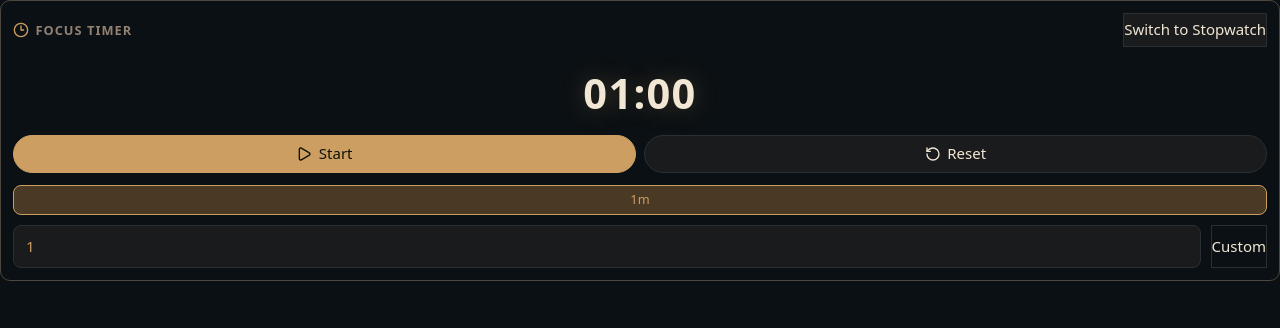
Test case: shows completion state and sends a local notification when focus time ends
The image size is (1280, 328).
Click the button "Start" at [324, 154], box left=13, top=135, right=636, bottom=173
Wait 60000 ms
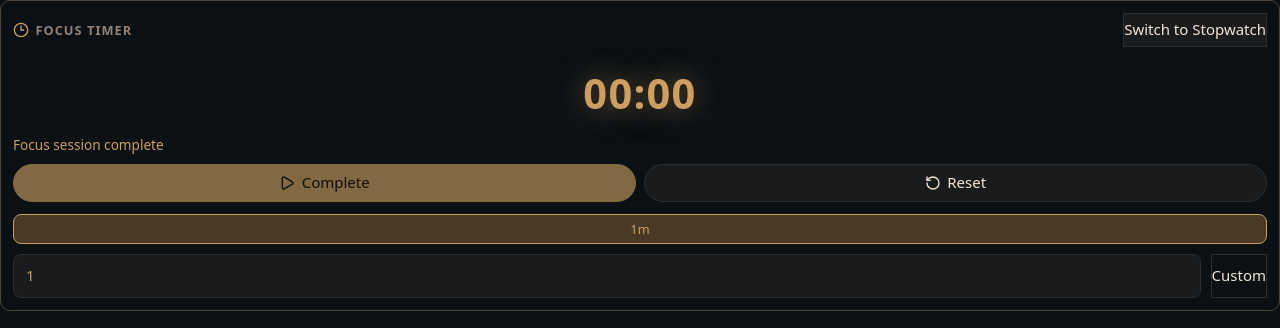
Now the text "00:00" is shown, box left=583, top=65, right=697, bottom=121
Now the text "Focus session complete" is shown, box left=13, top=135, right=164, bottom=154
Now the button "Complete" is disabled, box left=13, top=164, right=636, bottom=202
